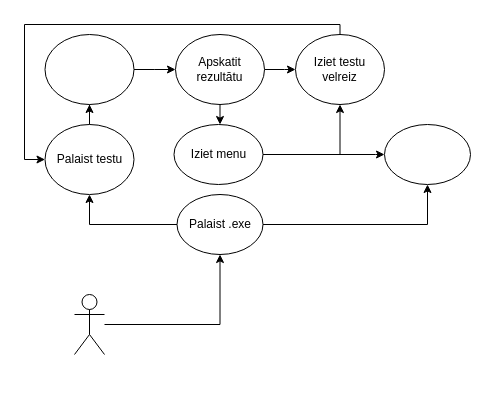
This 488x393 diagram has some shape labels left out. Here are the shapes that lost their labels. From the top down, the centre of each, then its label:
At (89,69): "Izveleties atbildes".
At (427,154): "Aizvert .exe".
At (89,324): "Windows OS lietotajs".
